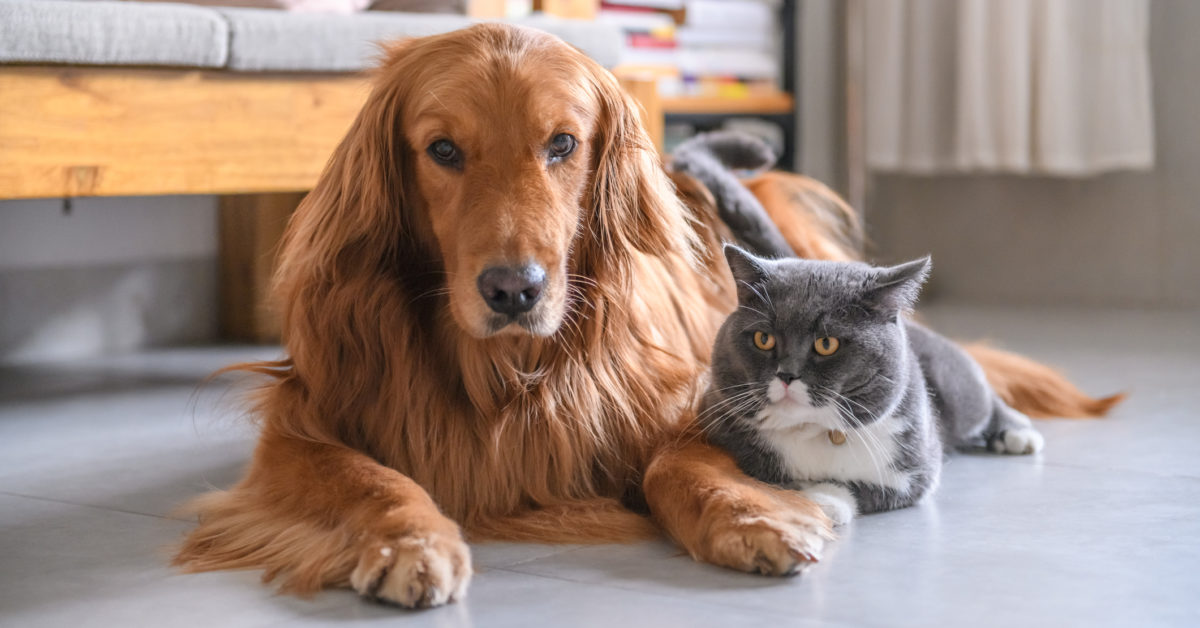pet: (271, 27, 735, 561)
